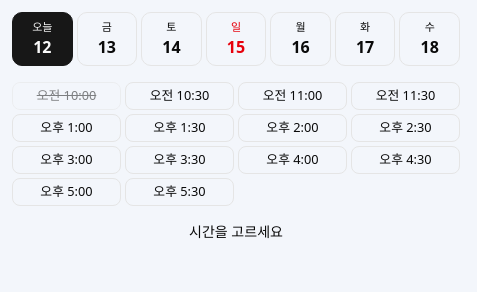
time slots: taken and closed slots cannot be booked
Later steps or results of the test are not shown.
Click the radio button named "11월 15일 (일)".
click(236, 39)  # box [206, 12, 266, 66]
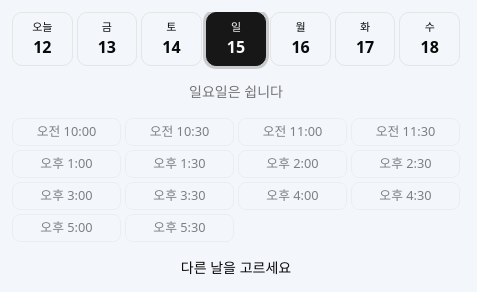
expect the text "일요일은 쉽니다" is shown: met, box [189, 82, 283, 101]
